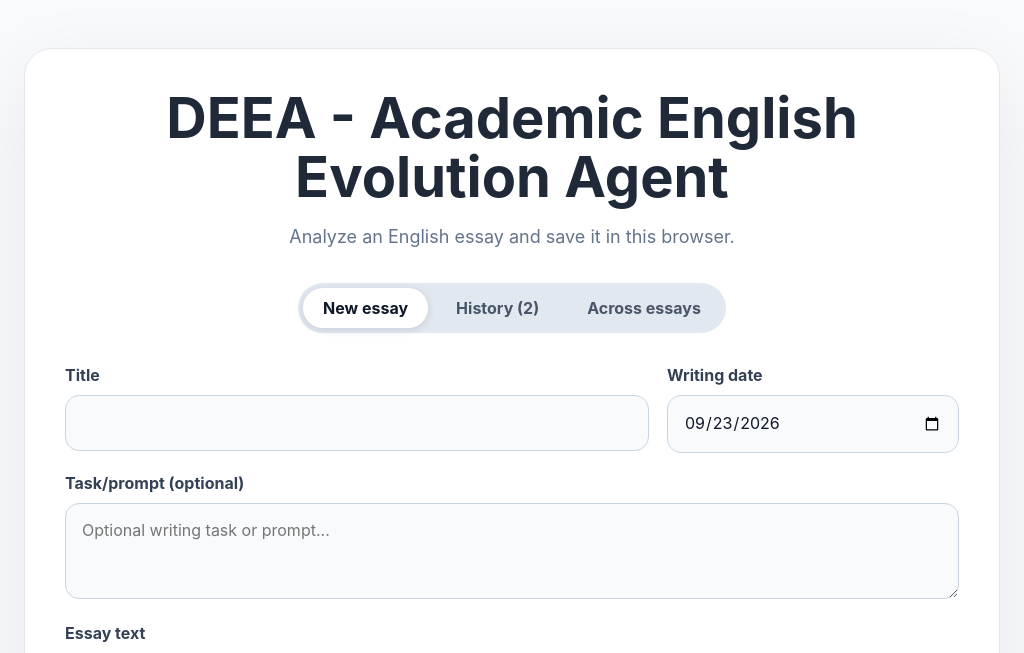
Scenario: essay deletion confirmation › deletes only the target after confirmation and keeps it deleted after refresh
Click the button "History (2)": (498, 308) [436,288,559,328]
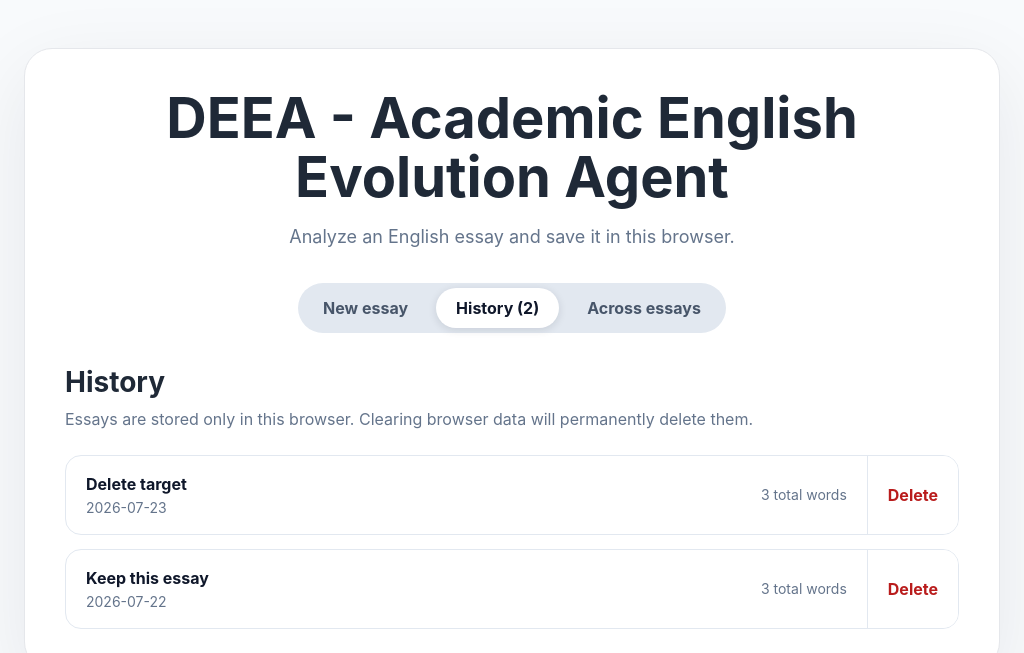
Result: the 1st button with class "delete-button" is shown
Click the 1st button with class "delete-button": (912, 495) [867,456,958,534]
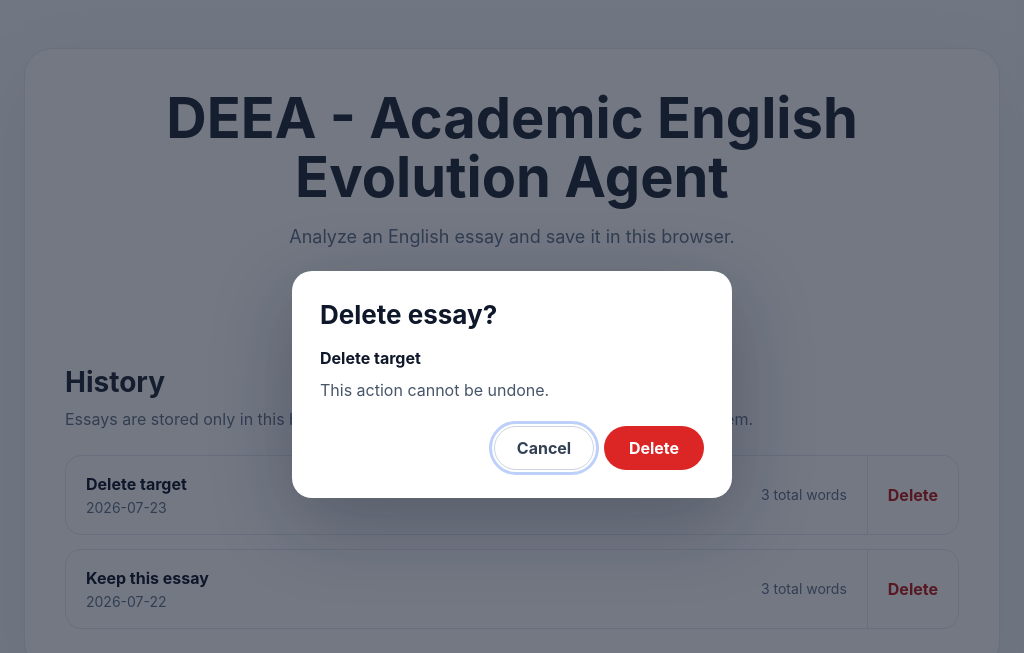
Result: the dialog is shown at [292,270,732,498]
Result: the button "Delete" is shown
Click the button "Delete": (654, 448) [604,426,704,470]
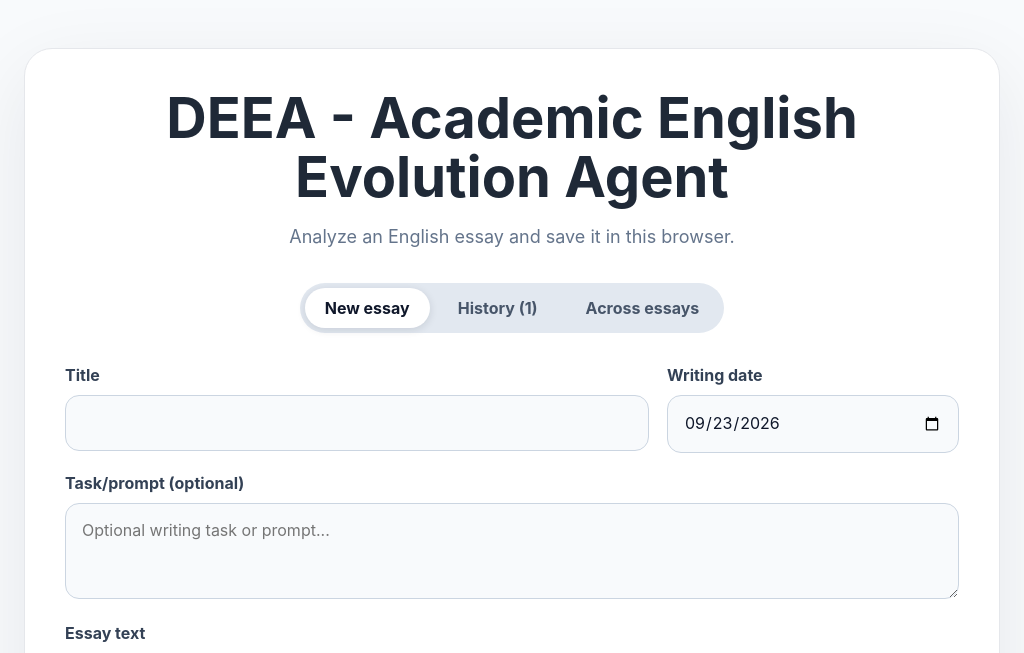
Result: the dialog is gone
Click the button "History (1)": (498, 308) [438,288,558,328]
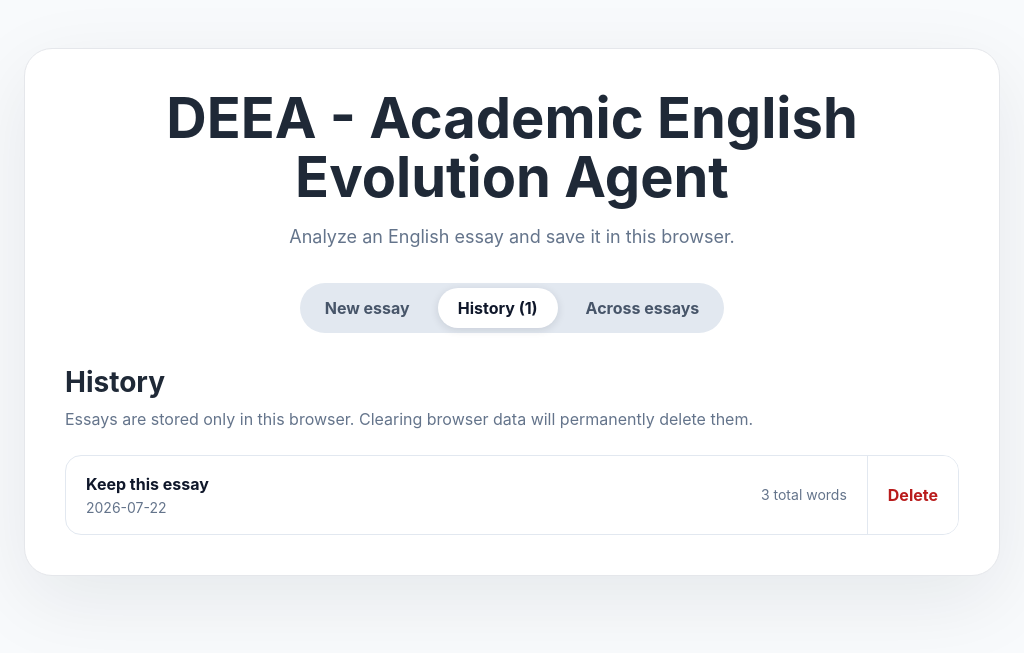
Expected: the text "Delete target" is not shown
Result: the text "Keep this essay" is shown at [86,474,209,494]
